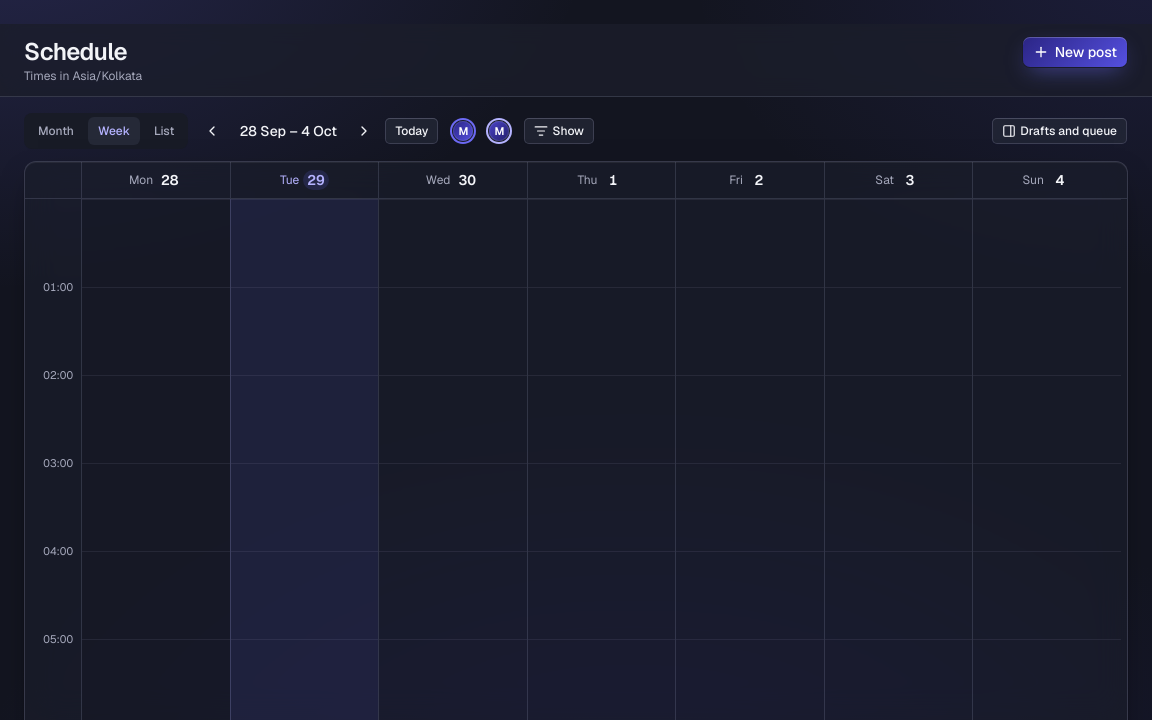
Test: Schedule page: Week (UX-SCR-04, FR-PUB-08) › moves between weeks and back to today
The image size is (1152, 720).
Click the button named "Next week" at (364, 131), box [348,115,380,147]
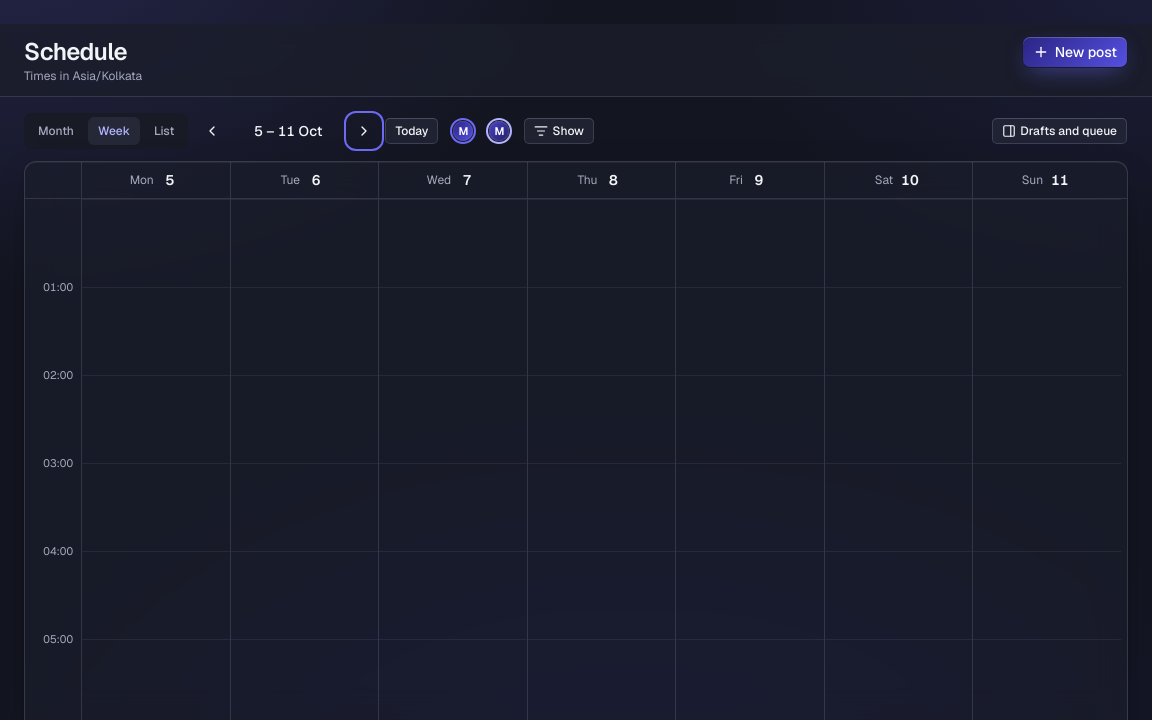
Expected: the text "5 – 11 Oct" is shown, [254,122,322,140]
Click the button "Today" at (412, 131), box [384,117,440,145]
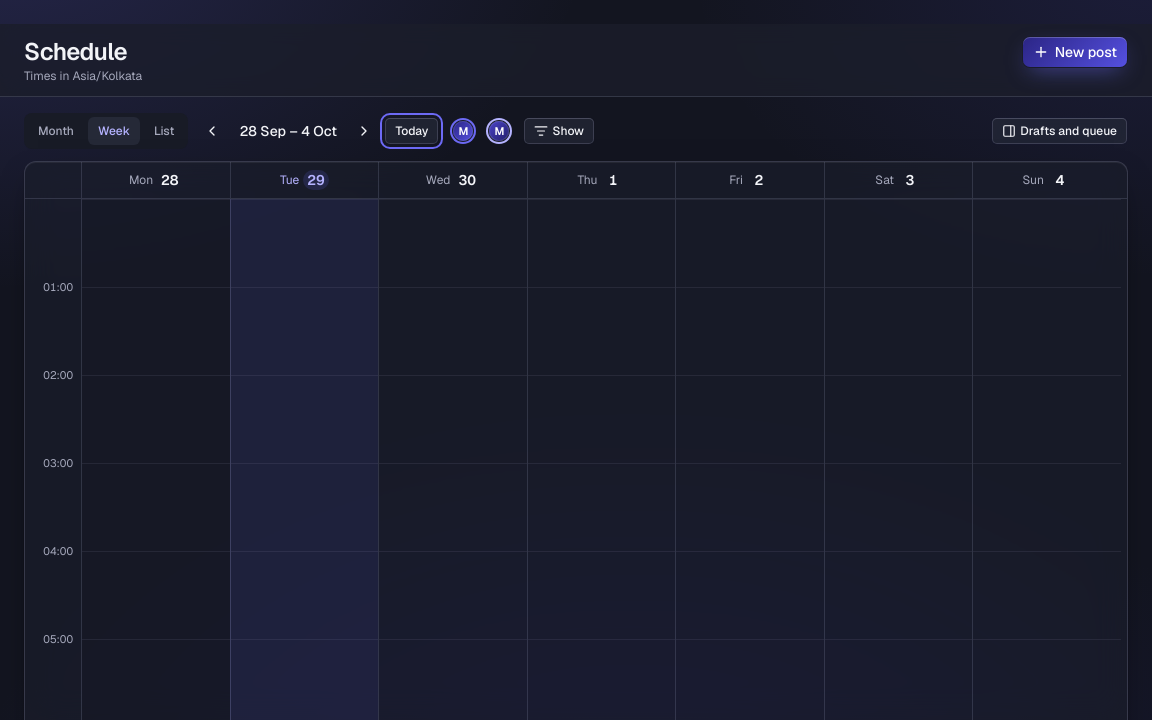
Expected: the text "28 Sep – 4 Oct" is shown, [232,121,344,141]
